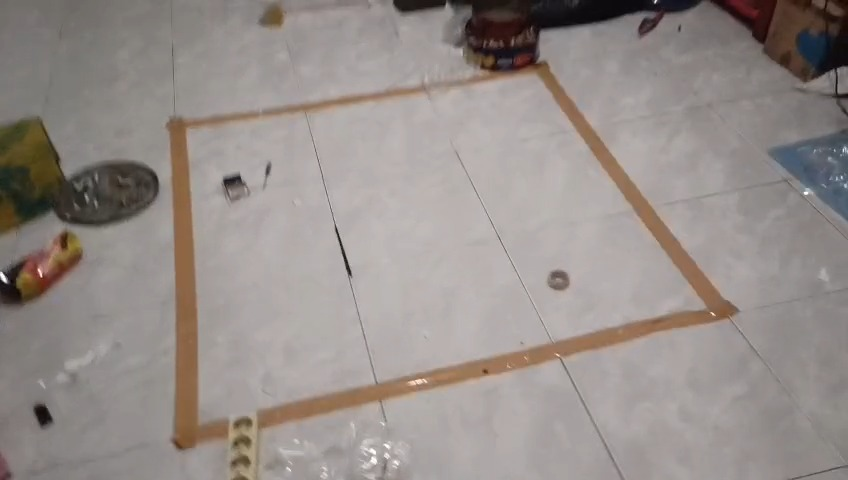floor marking: (260, 63, 737, 427), (169, 87, 426, 448)
